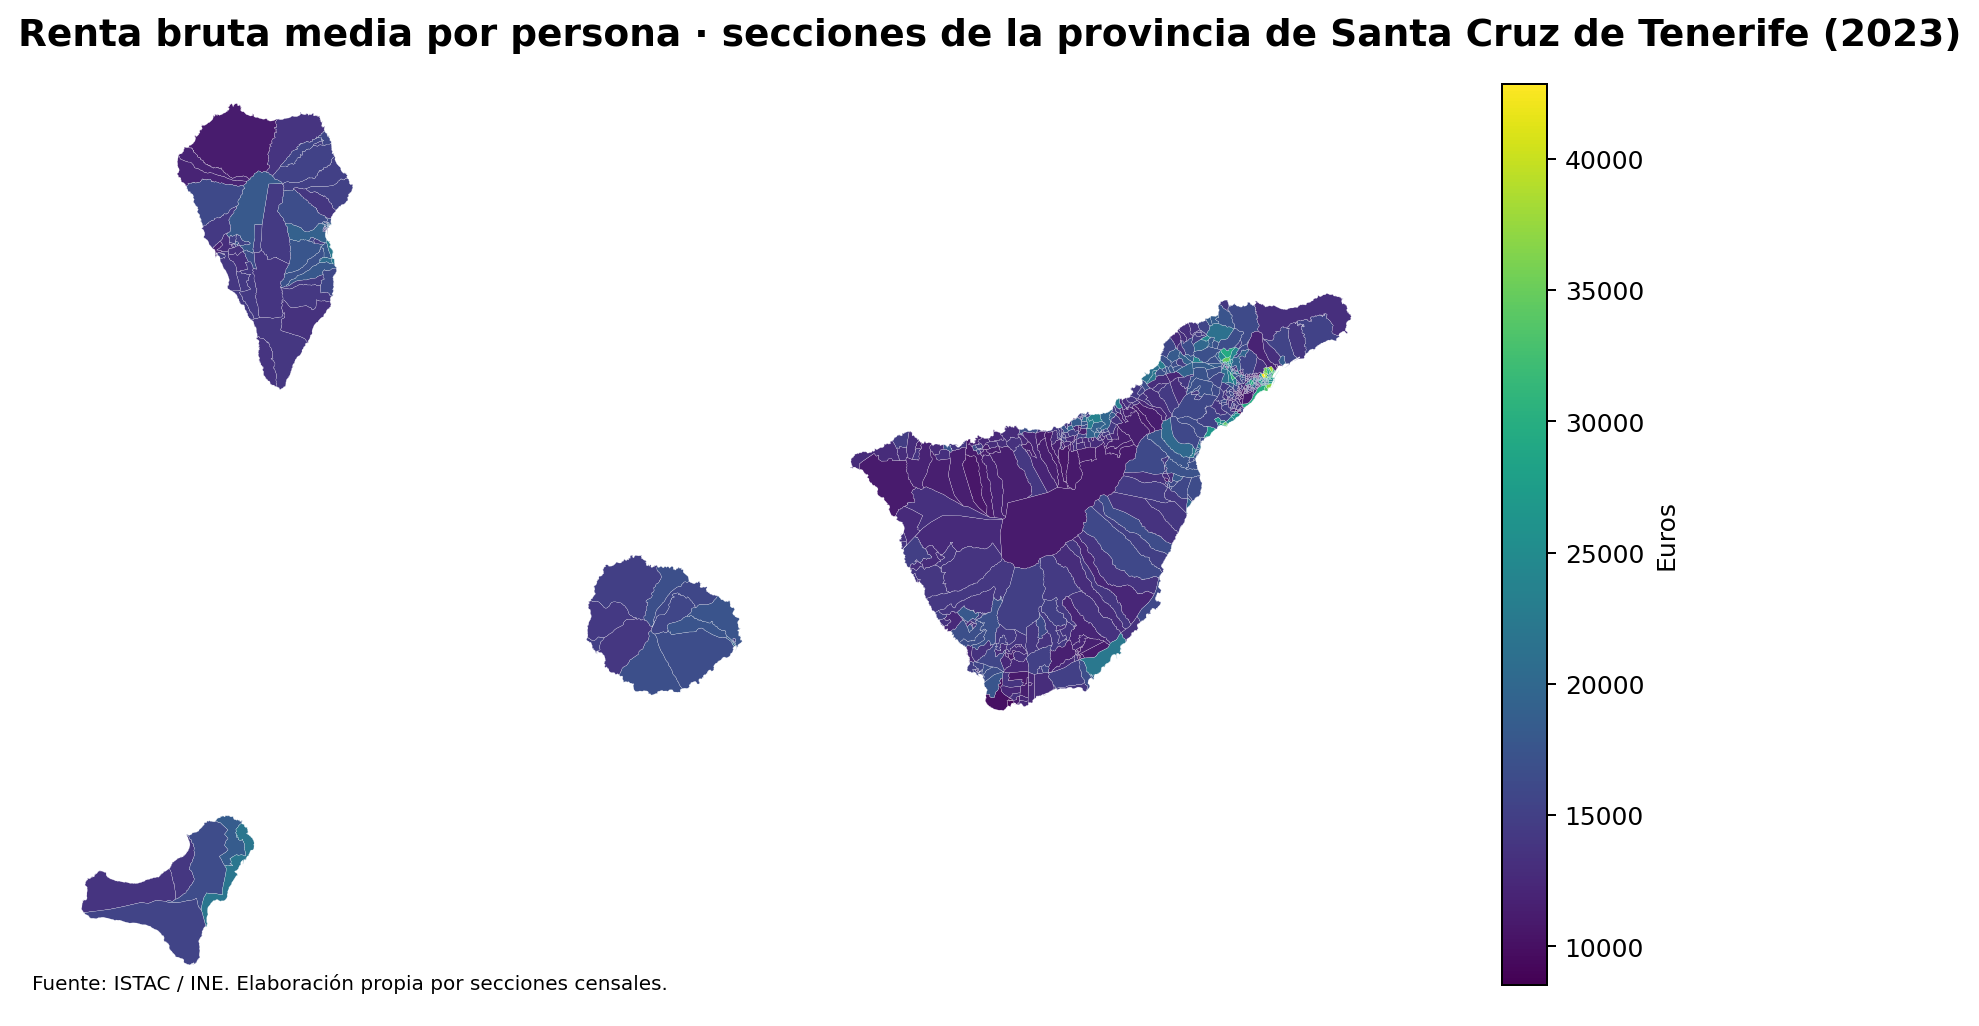

What the dashboard file says about the page in this screenshot:
{"tool":"powerbi","page":{"name":"Página 1","canvas":[1280,720],"ordinal":0},"visuals":[{"type":"shapeMap","title":"Mapa Municipal Canarias","fields":{"Category":["Municipios-2024.label"],"Value":["Sum(Municipios-2024.valor)"]},"box":[9.7,0,1117.2,650.3],"z":0}]}

Visuals, with their boxes on the page's 1280x720 design canvas (x1, y1, x2, y2). These are canvas units, not pixel positions in the 1979x1026 screenshot, which may show the page scaled, cropped or inside an application window:
"Mapa Municipal Canarias" shapeMap: {"x1": 10, "y1": 0, "x2": 1127, "y2": 650}
